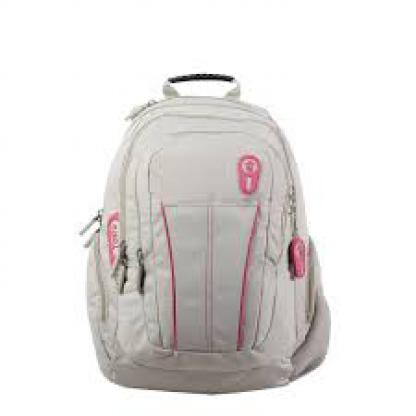morral: (67, 63, 358, 397)
